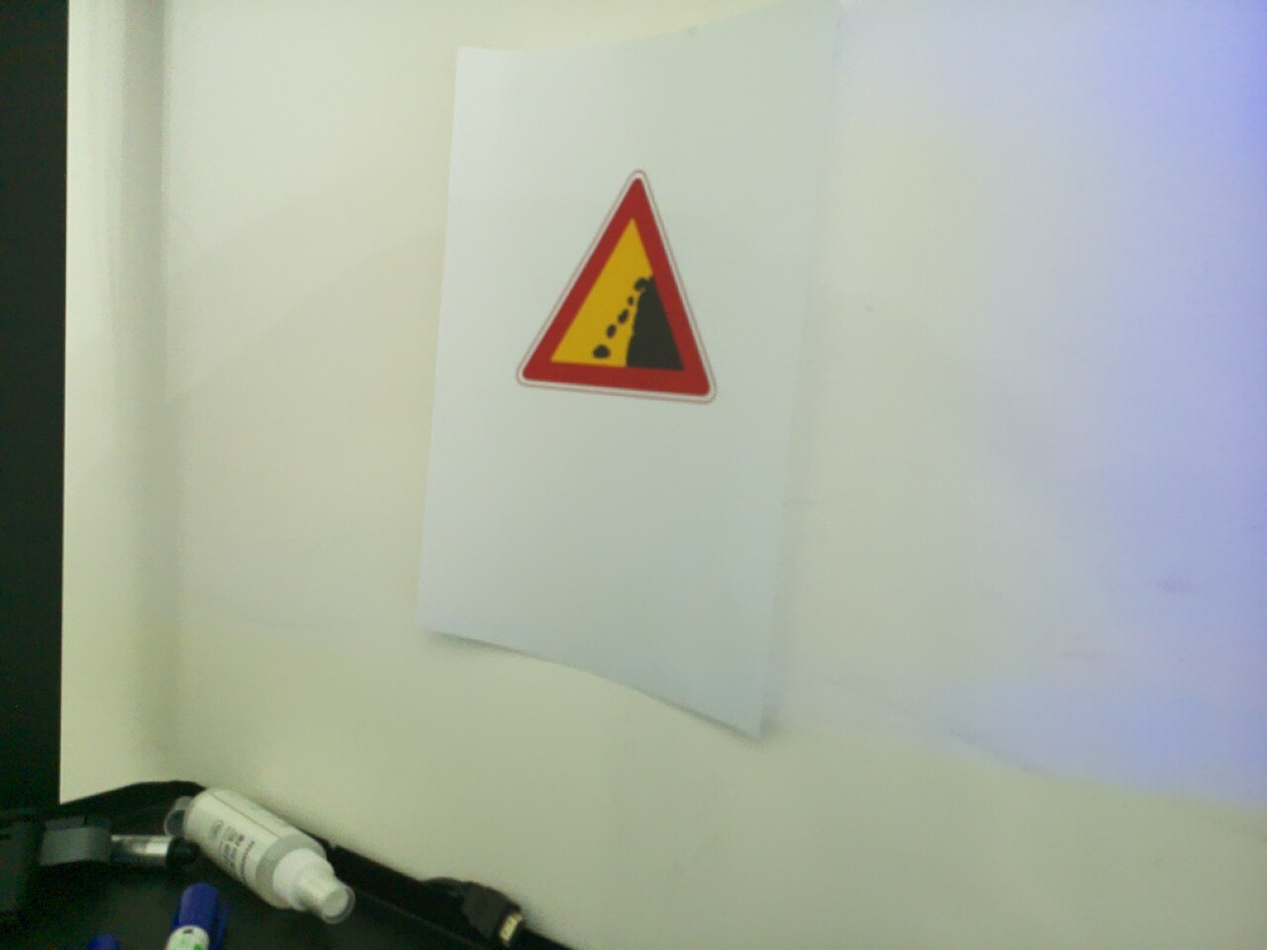falling_rocks: (516, 170, 718, 405)
